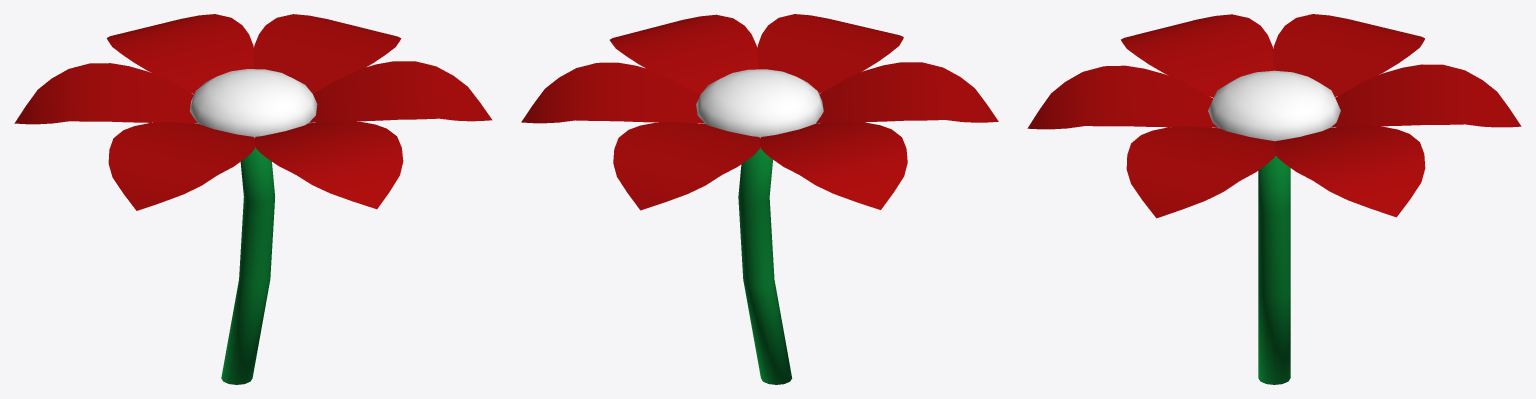
Rendered from FlowerB.fbx.
3 views of the same model, side by side, from view 1: azimuth 30°, elevation 25°; view 2: azimuth 150°, elevation 25°; view 3: azimuth 270°, elevation 25° (orthographic). The views are drawn at different scales.
Visible parts, largest first — view 1: FlowerB; view 2: FlowerB; view 3: FlowerB.
Part boxes in pixels (box(x1,y1,x2,y2)): FlowerB: box(14, 14, 492, 384); FlowerB: box(521, 14, 998, 384); FlowerB: box(1027, 14, 1521, 384).
Size of the model in its own units: 1.26 by 1.44 by 0.9771.
